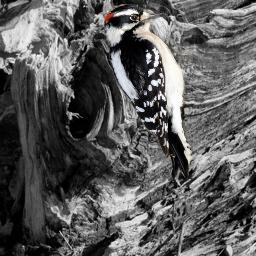Woodpecker: (104, 4, 193, 181)
